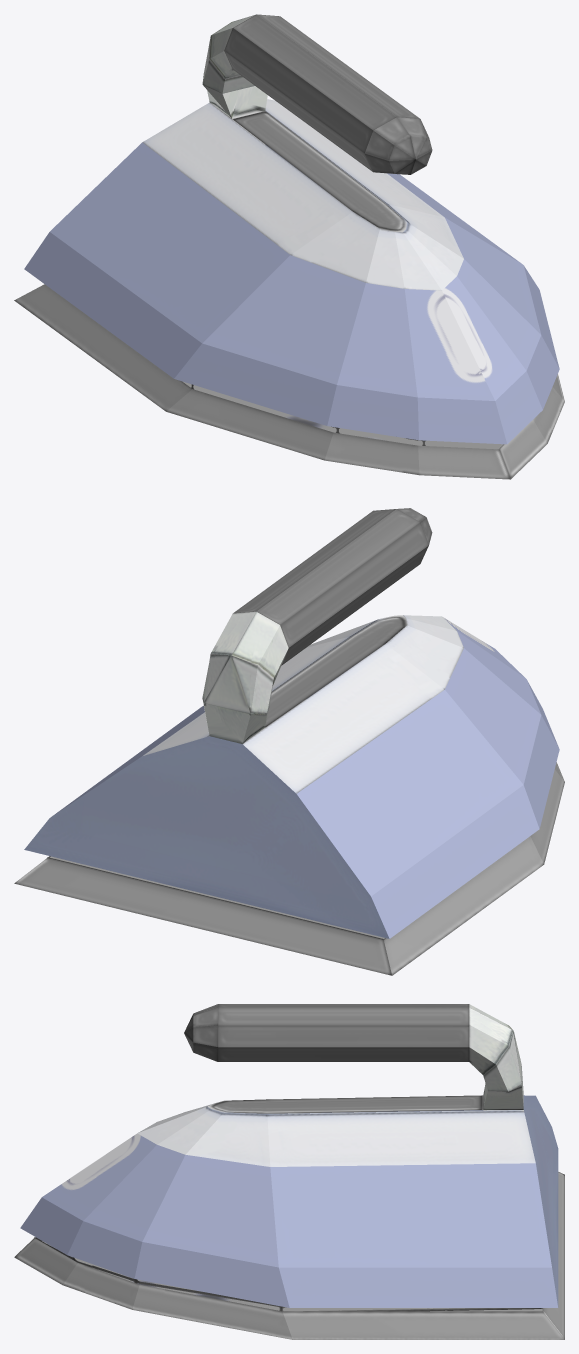
Rendered from HeatIron.fbx.
3 views of the same model, one above another, from view 1: azimuth 30°, elevation 25°; view 2: azimuth 150°, elevation 25°; view 3: azimuth 270°, elevation 25° (orthographic). The views are drawn at different scales.
Visible parts, largest first — view 1: Cube; view 2: Cube; view 3: Cube.
Part boxes in pixels (x1,y1,x2,y2): Cube: (14,14,564,479); Cube: (14,508,564,975); Cube: (14,1004,564,1339).
Bounding box in the file's own units: 322 × 227 × 453.
Materials: 1 (1 with a texture image).
